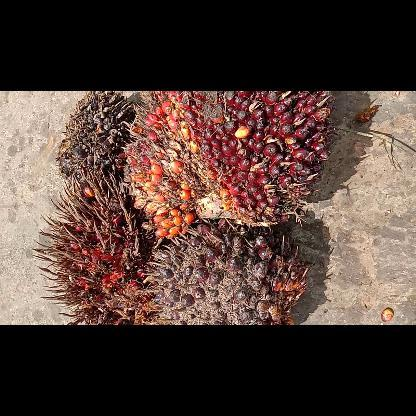Kurang masak: (144, 220, 308, 324)
TBS abnormal: (55, 91, 131, 185)
TBS masak: (125, 91, 334, 239)
Terlalu masak: (36, 166, 150, 324)
